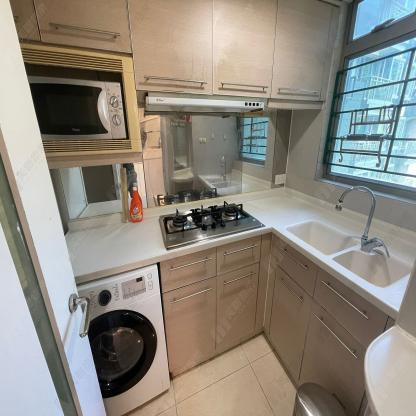Cupboard: (160, 230, 392, 415), (128, 1, 343, 102)
Exhaust Hood: (143, 93, 263, 113)
Faucet: (333, 177, 388, 261)
Microwave: (26, 76, 126, 140)
Sink: (284, 219, 415, 288)
Stove: (160, 201, 268, 251)
Washing Machine: (75, 262, 170, 416)
